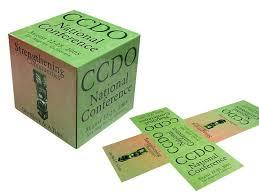cube: (9, 10, 140, 150)
